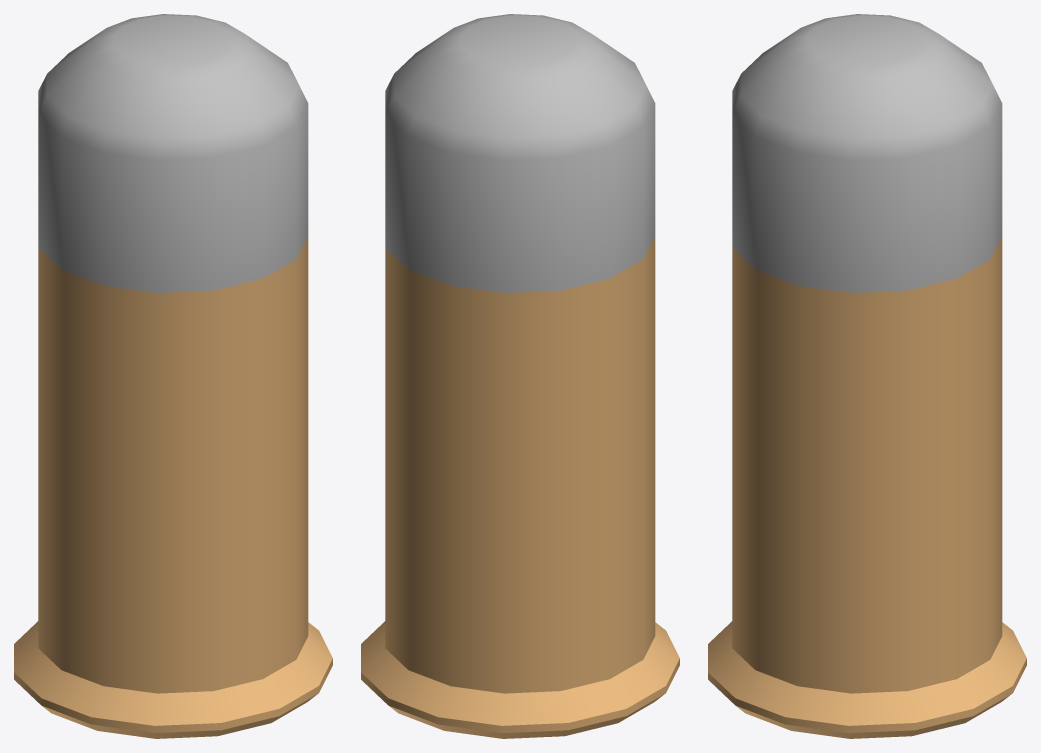
File: patron.fbx
The picture shows the model from 3 angles, left to right: view 1: azimuth 30°, elevation 25°; view 2: azimuth 150°, elevation 25°; view 3: azimuth 270°, elevation 25°; orthographic projection.
Visible parts, largest first — view 1: Cylinder; view 2: Cylinder; view 3: Cylinder.
Part boxes in pixels (x1,y1,x2,y2): Cylinder: (14,14,332,738); Cylinder: (361,14,679,738); Cylinder: (708,14,1026,738).
Bounding box in the file's own units: 199 × 435 × 198.
